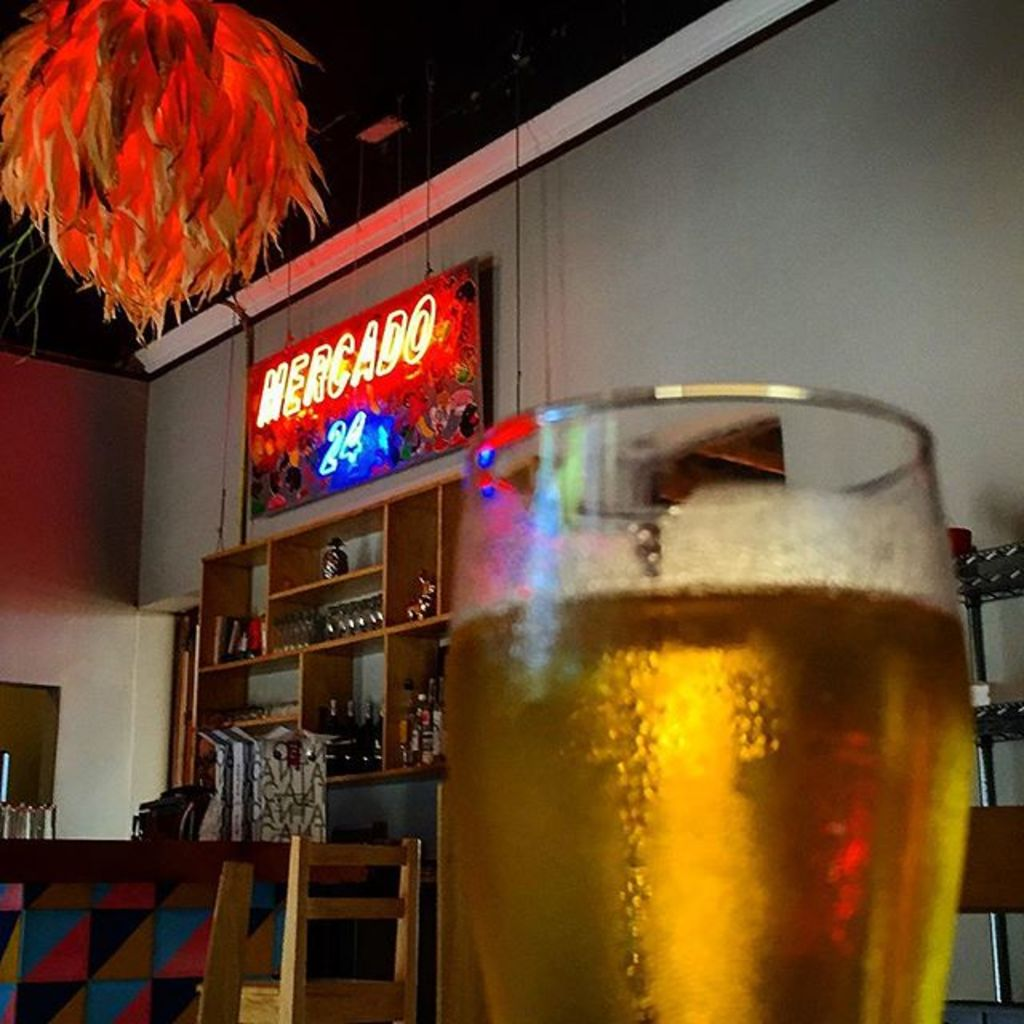Beer: (441, 372, 992, 1020), (212, 585, 441, 780)
